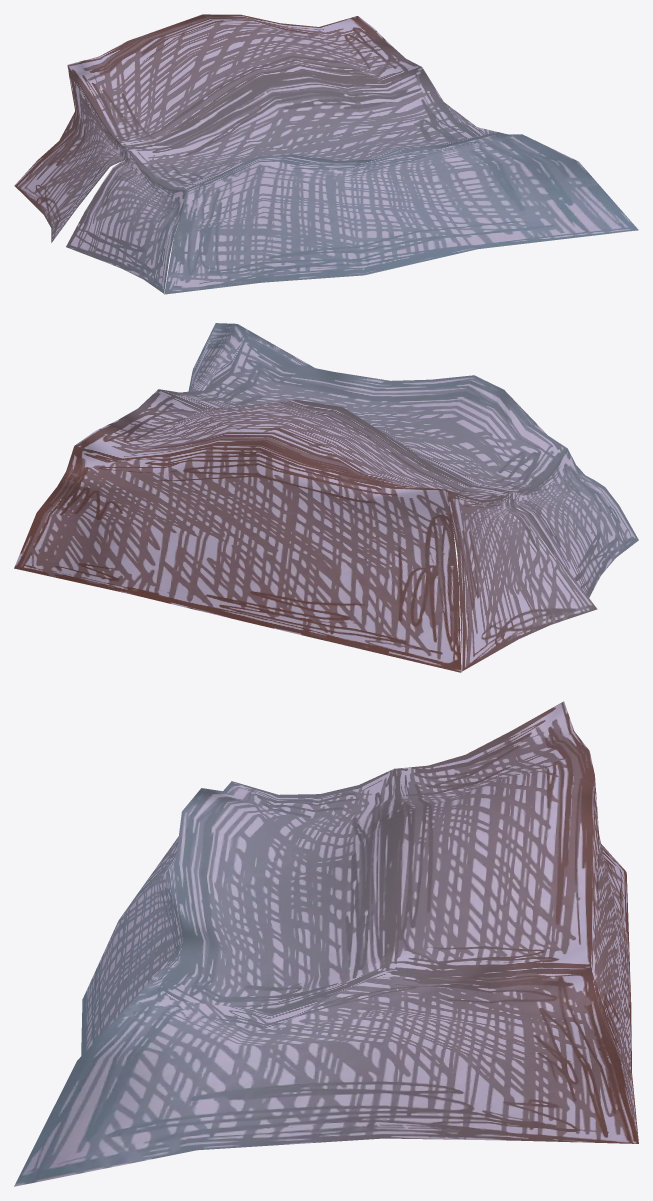
The model's file is tent1_2050.glb.
The picture shows the model from 3 angles, top to bottom: view 1: azimuth 30°, elevation 25°; view 2: azimuth 150°, elevation 25°; view 3: azimuth 270°, elevation 25°; orthographic projection. The views are drawn at different scales.
Parts seen in each view (by area): view 1: Tente2_2050; view 2: Tente2_2050; view 3: Tente2_2050.
Part boxes in pixels (x1=…): Tente2_2050: x1=14, y1=14, x2=638, y2=294; Tente2_2050: x1=14, y1=323, x2=638, y2=672; Tente2_2050: x1=14, y1=701, x2=638, y2=1186.
Size of the model in its own units: 6 by 1.76 by 4.63.
Materials: 1 (1 with a texture image).
